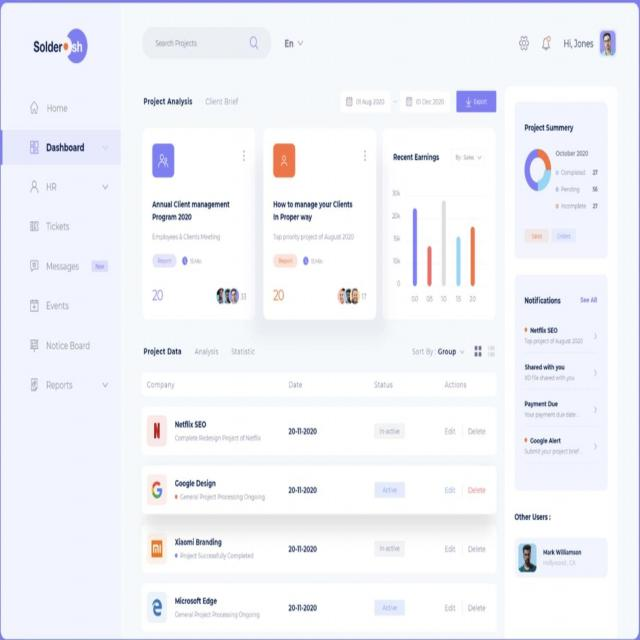button: (456, 89, 496, 112), (518, 31, 531, 55)
input: (143, 26, 271, 60)
select: (281, 32, 306, 54)
